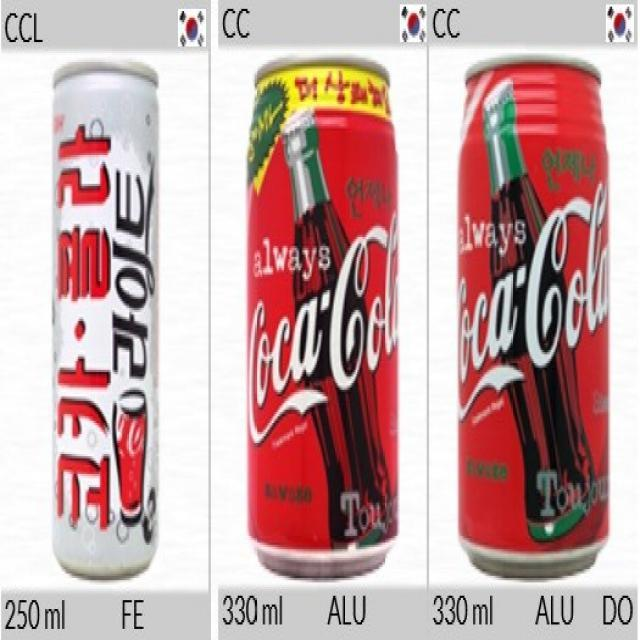coca-cola: (244, 55, 404, 583), (457, 51, 613, 579)
